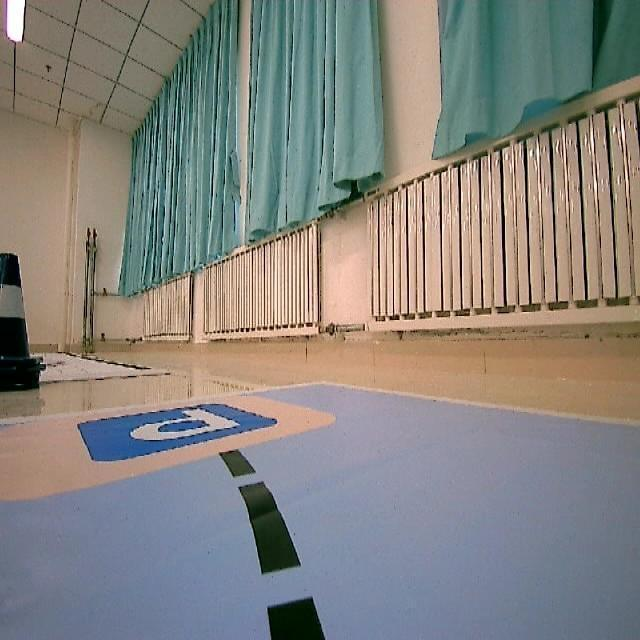obstacle: (0, 247, 49, 391)
